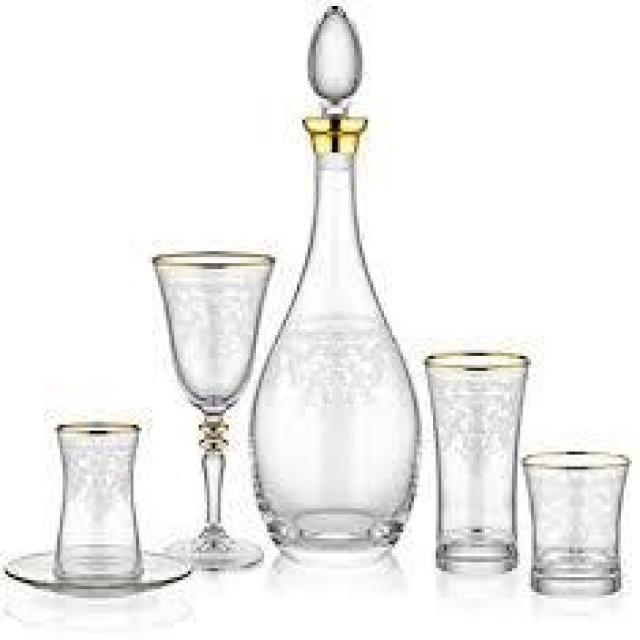non-organic waste: (245, 3, 428, 583), (151, 246, 279, 578), (424, 347, 530, 577), (520, 441, 629, 603), (50, 416, 143, 583)
